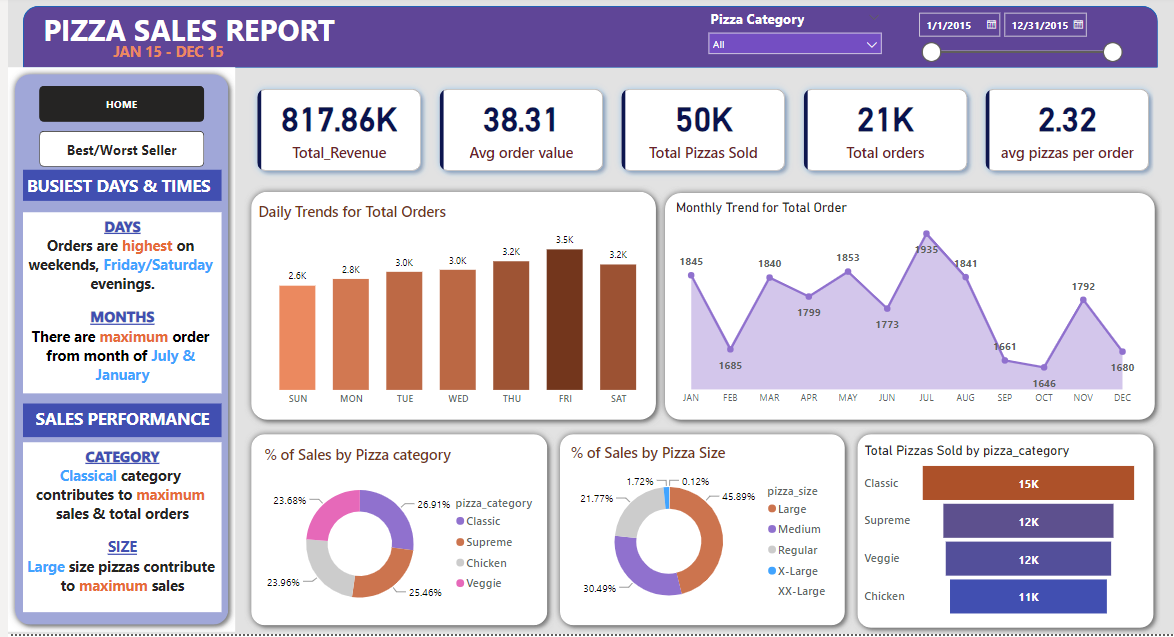

The page's visual inventory and layout, read from the dashboard file:
{"tool":"powerbi","page":{"name":"HOME","canvas":[1500,820],"ordinal":0},"visuals":[{"type":"cardVisual","fields":{"Data":["pizza_sales.Total_Revenue","pizza_sales.Avg order value","pizza_sales.Total Pizzas Sold","pizza_sales.Total orders","pizza_sales.avg pizzas per order"]},"box":[303.2,103.2,1174.6,139.7],"z":0},{"type":"shape","box":[19,12.7,1458.7,79.4],"z":1000},{"type":"textbox","box":[39.7,12.7,400,66.7],"z":2000},{"type":"textbox","box":[130.2,52.4,173,39.7],"z":3000},{"type":"shape","box":[303.2,242.9,538.1,311.1],"z":4000},{"type":"columnChart","title":"Daily Trends for Total Orders","fields":{"Category":["pizza_sales.Order day"],"Y":["pizza_sales.Total orders"]},"box":[315.9,263.5,525.4,273],"z":5000},{"type":"shape","box":[834.9,244.4,647.6,309.5],"z":6000},{"type":"areaChart","title":"Monthly Trend for Total Order","fields":{"Category":["pizza_sales.Order Month"],"Y":["pizza_sales.Total orders"]},"box":[852.4,261.9,604.8,273],"z":7000},{"type":"shape","box":[303.2,554,398.4,263.5],"z":8000},{"type":"shape","box":[1082.5,554,398.4,266.7],"z":9000},{"type":"donutChart","title":"% of Sales by Pizza category","fields":{"Category":["pizza_sales.pizza_category"],"Y":["pizza_sales.Total_Revenue"]},"box":[323.8,576.2,377.8,230.2],"z":10000},{"type":"shape","box":[700,554,384.1,263.5],"z":11000},{"type":"donutChart","title":"% of Sales by Pizza Size","fields":{"Y":["pizza_sales.Total_Revenue"],"Category":["pizza_sales.pizza_size"]},"box":[717.5,573,350.8,230.2],"z":12000},{"type":"funnel","fields":{"Category":["pizza_sales.pizza_category"],"Y":["pizza_sales.Total Pizzas Sold"]},"box":[1095.2,573,361.9,230.2],"z":13000},{"type":"shape","box":[0,92.1,292.1,725.4],"z":14000},{"type":"textbox","box":[19.3,223.3,255.5,40.2],"z":15000},{"type":"textbox","box":[19.3,278,255.5,233],"z":16000},{"type":"textbox","box":[19.3,523.8,255.5,43],"z":17000},{"type":"textbox","box":[19.3,573.6,255.5,218.5],"z":18000},{"type":"slicer","fields":{"Values":["pizza_sales.pizza_category"]},"box":[890.5,12.7,242.9,77.8],"z":19000},{"type":"slicer","fields":{"Values":["pizza_sales.order_date"]},"box":[1158.7,11.1,282.5,79.4],"z":20000},{"type":"pageNavigator","box":[40.2,115.7,212.1,46],"z":20001},{"type":"pageNavigator","box":[40.2,173.5,212.1,46],"z":20002}]}

Visuals, with their boxes in screenshot pixels (x1, y1, x2, y2), scaled from the page's 1500x820 canvas onto the 1174x637 screenshot:
cardVisual - pizza_sales.Total_Revenue x pizza_sales.Avg order value: <box>237,80,1157,189</box>
shape: <box>15,10,1157,72</box>
textbox: <box>31,10,344,62</box>
textbox: <box>102,41,237,72</box>
shape: <box>237,189,658,430</box>
"Daily Trends for Total Orders" columnChart: <box>247,205,658,417</box>
shape: <box>653,190,1160,430</box>
"Monthly Trend for Total Order" areaChart: <box>667,203,1141,416</box>
shape: <box>237,430,549,635</box>
shape: <box>847,430,1159,636</box>
"% of Sales by Pizza category" donutChart: <box>253,448,549,626</box>
shape: <box>548,430,848,635</box>
"% of Sales by Pizza Size" donutChart: <box>562,445,836,624</box>
funnel - pizza_sales.pizza_category x pizza_sales.Total Pizzas Sold: <box>857,445,1140,624</box>
shape: <box>0,72,229,635</box>
textbox: <box>15,173,215,205</box>
textbox: <box>15,216,215,397</box>
textbox: <box>15,407,215,440</box>
textbox: <box>15,446,215,615</box>
slicer - pizza_sales.pizza_category: <box>697,10,887,70</box>
slicer - pizza_sales.order_date: <box>907,9,1128,70</box>
pageNavigator: <box>31,90,197,126</box>
pageNavigator: <box>31,135,197,171</box>
